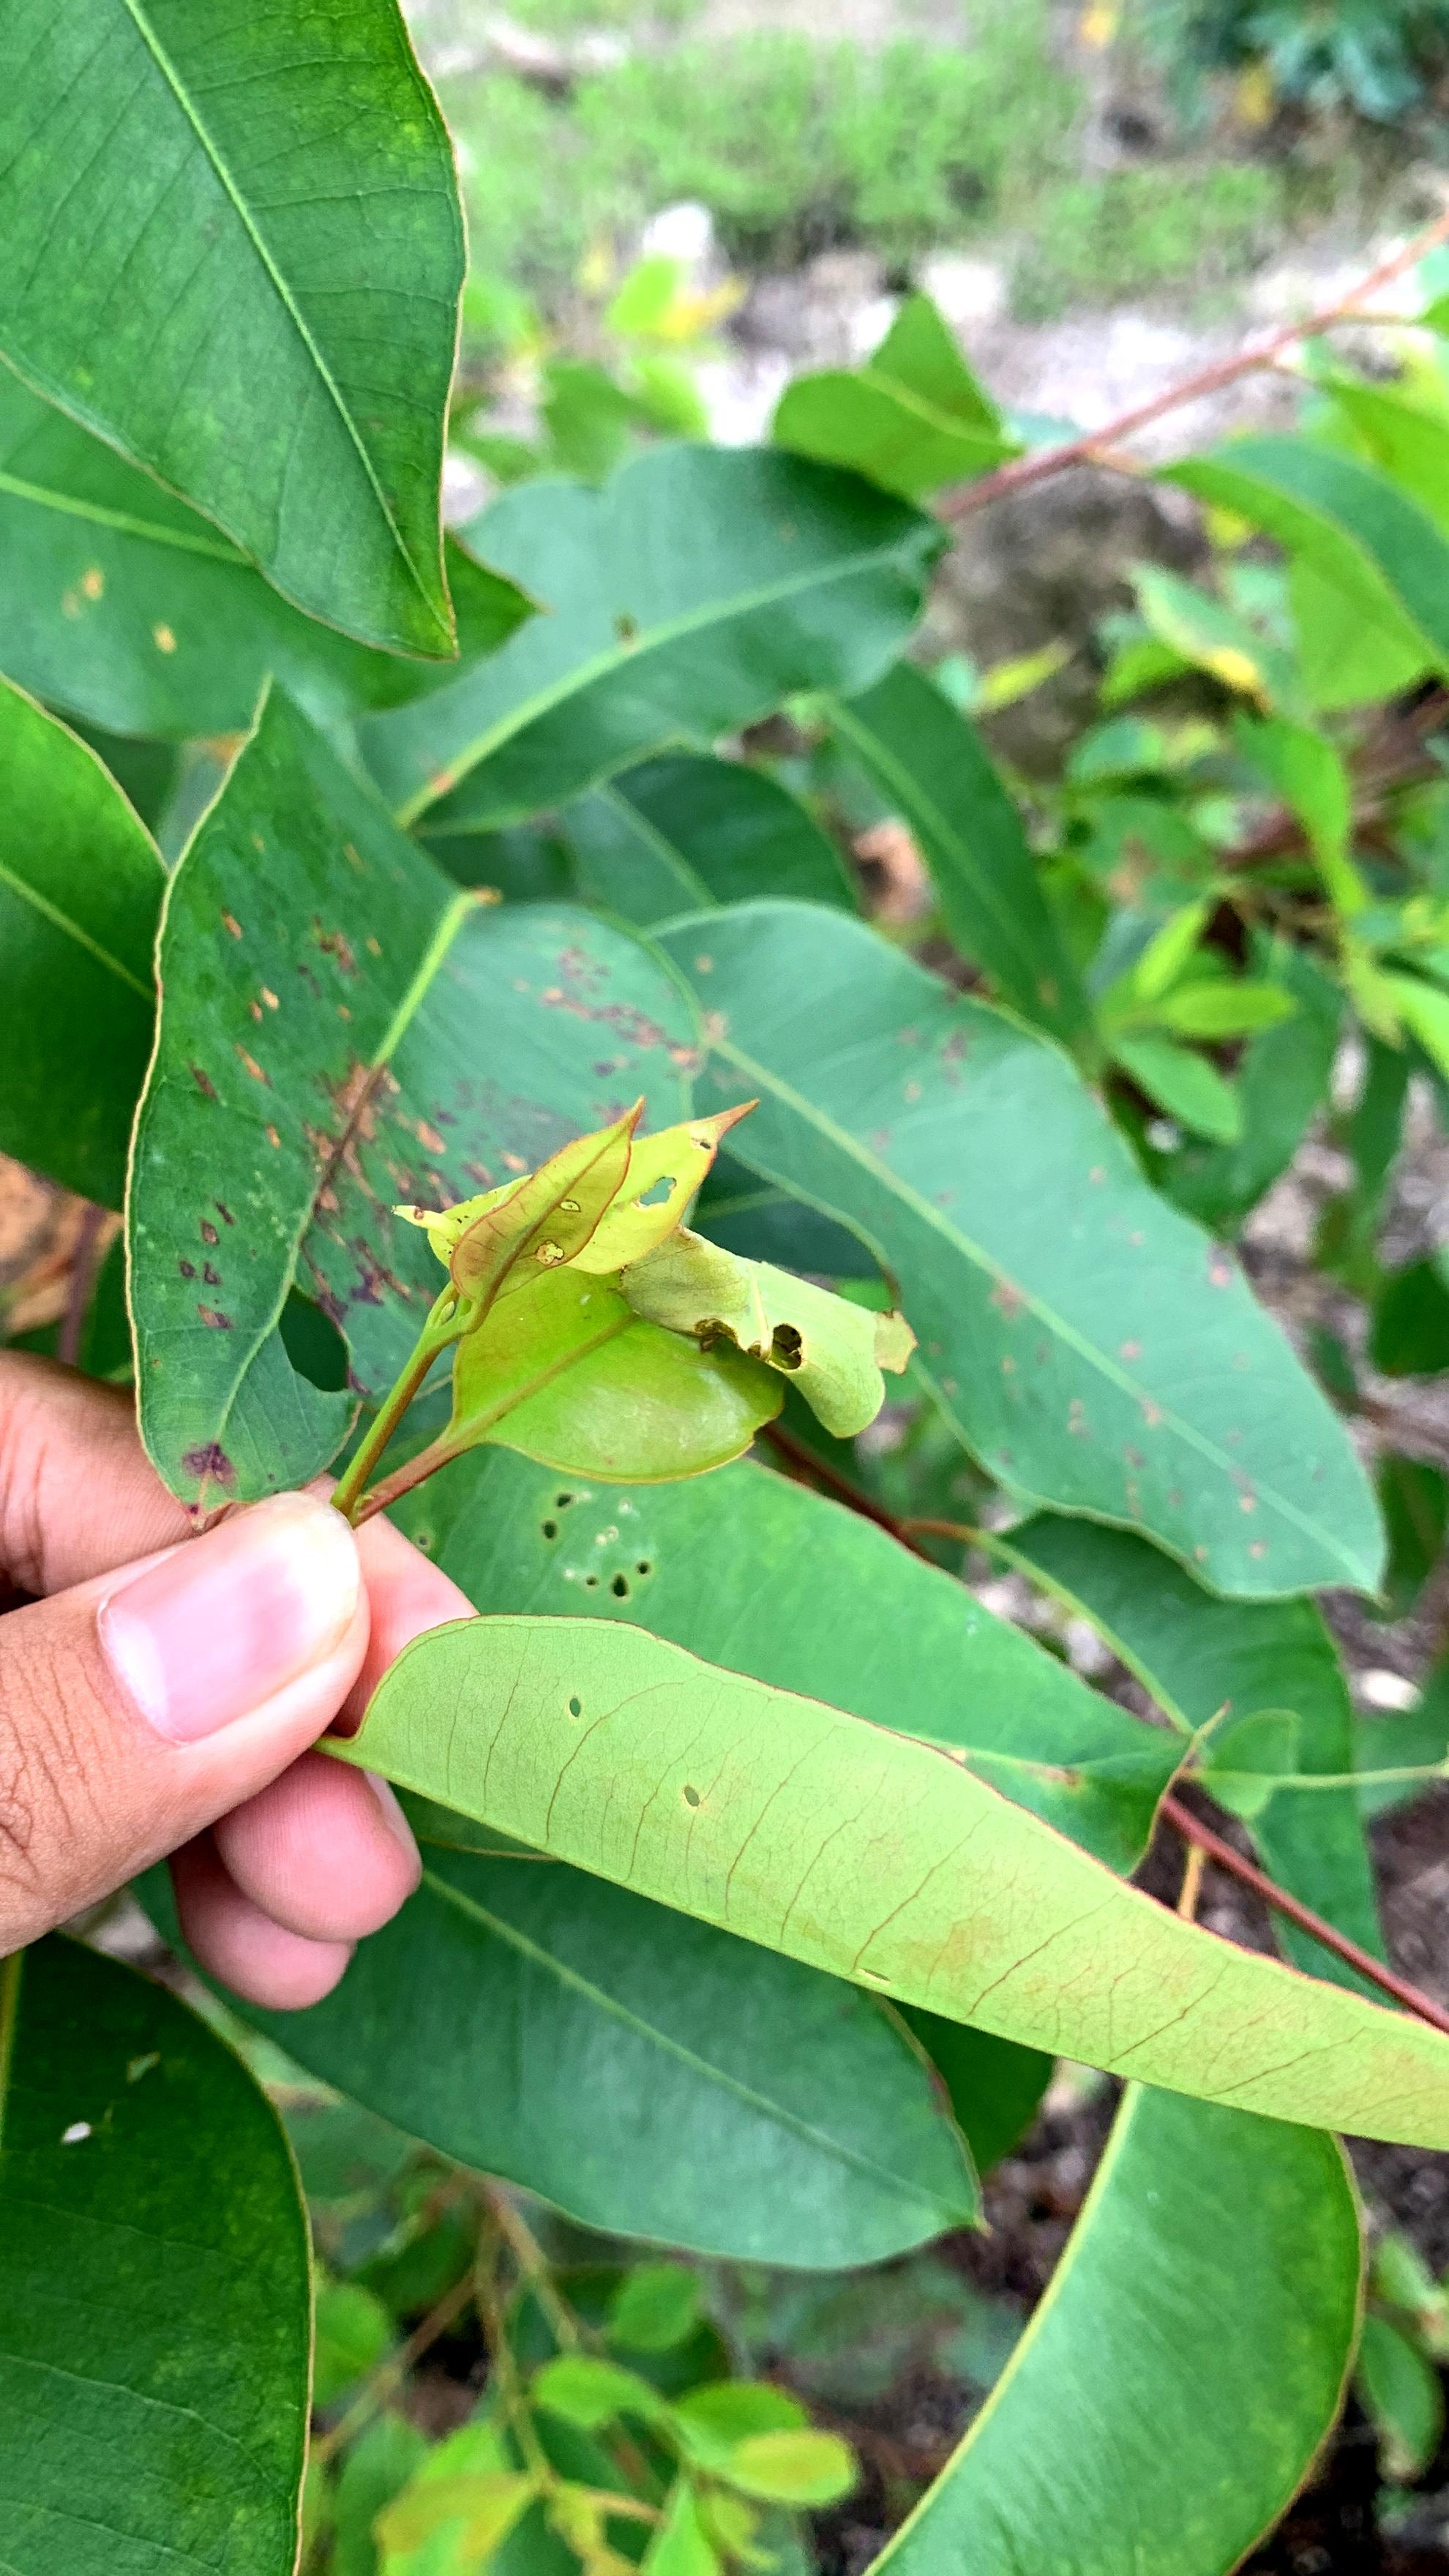Leaf Roller - Leaf: (389, 1102, 902, 1491)
